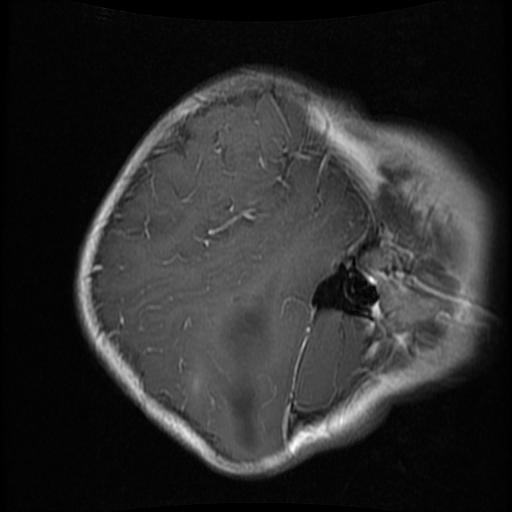glioma: (223, 273, 280, 453)
